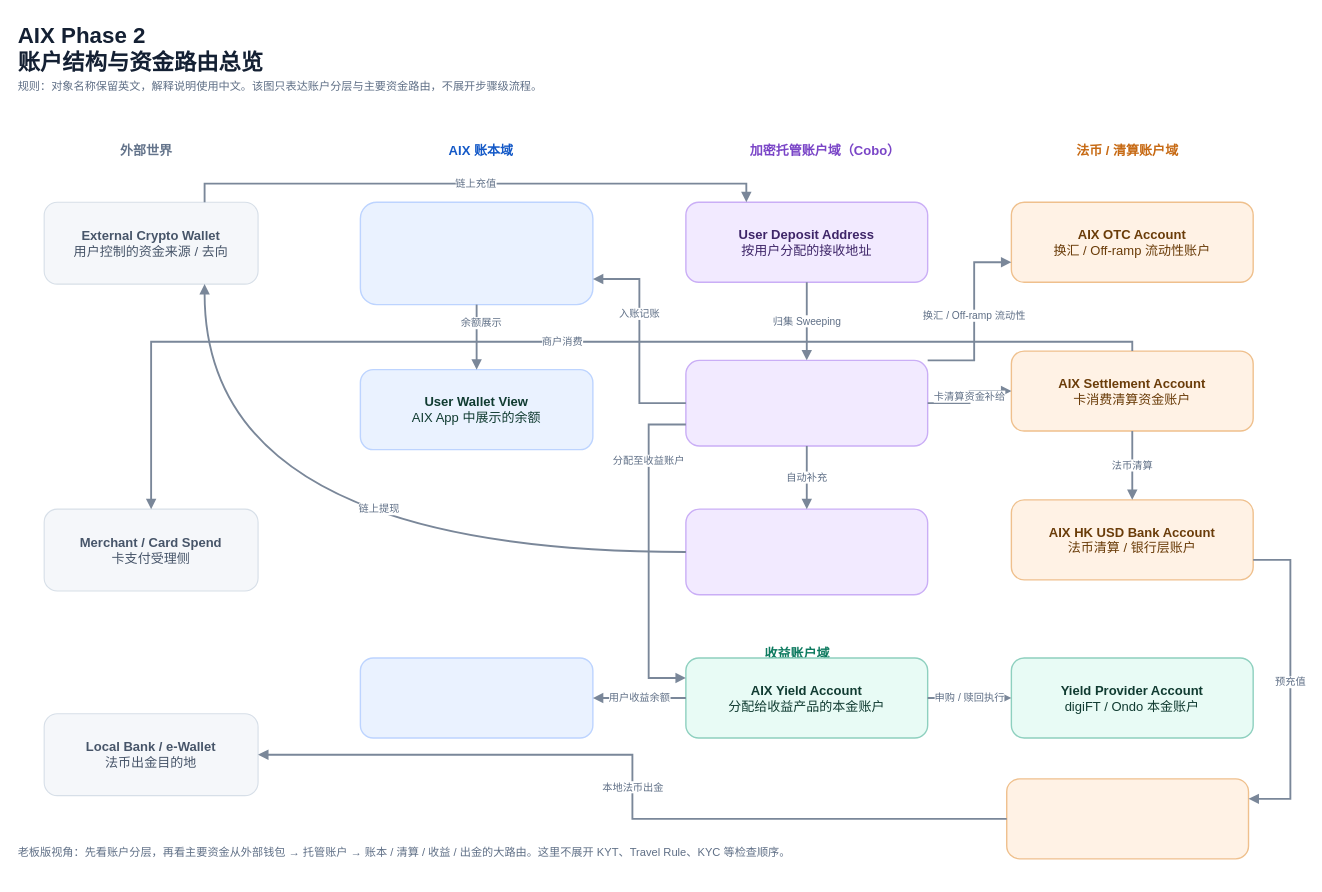
Image size: 1322x892. Some labels were removed from this diagram. The shapes that lost their labels are listed below. From the top down, each one's box as (x1, y1, x2, y2) in pixels, then its label:
(359, 201, 593, 305): AIX Balance Ledger 用户侧余额真相源 钱包 / 产品余额记录
(685, 359, 928, 446): AIX Pool Account 主归集托管池账户
(685, 508, 928, 595): AIX Withdrawal Account 链上出账执行钱包
(359, 657, 593, 738): Yield Product Balance 用户持有的收益头寸
(1006, 778, 1249, 859): Payout Pre-fund Account Thunes / AirWallex 预充值账户
